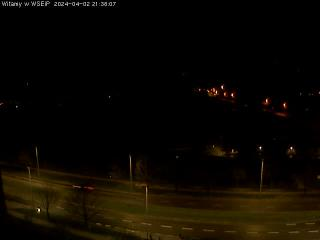car: (69, 181, 94, 192)
